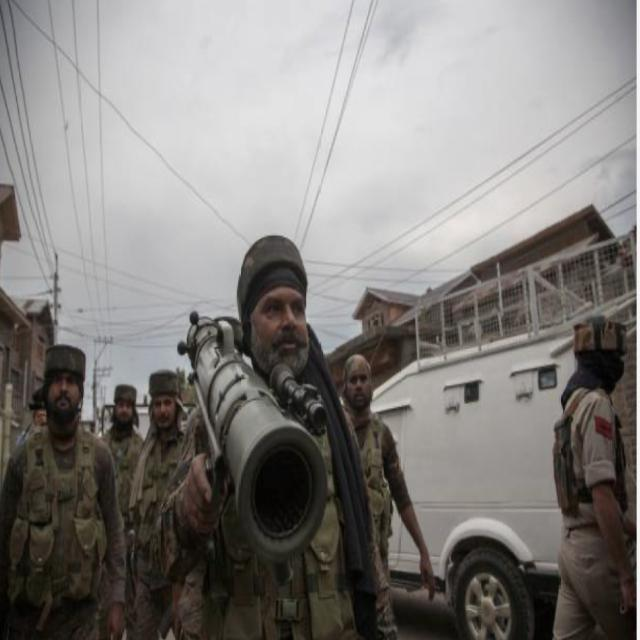bazooka: (173, 304, 337, 577)
